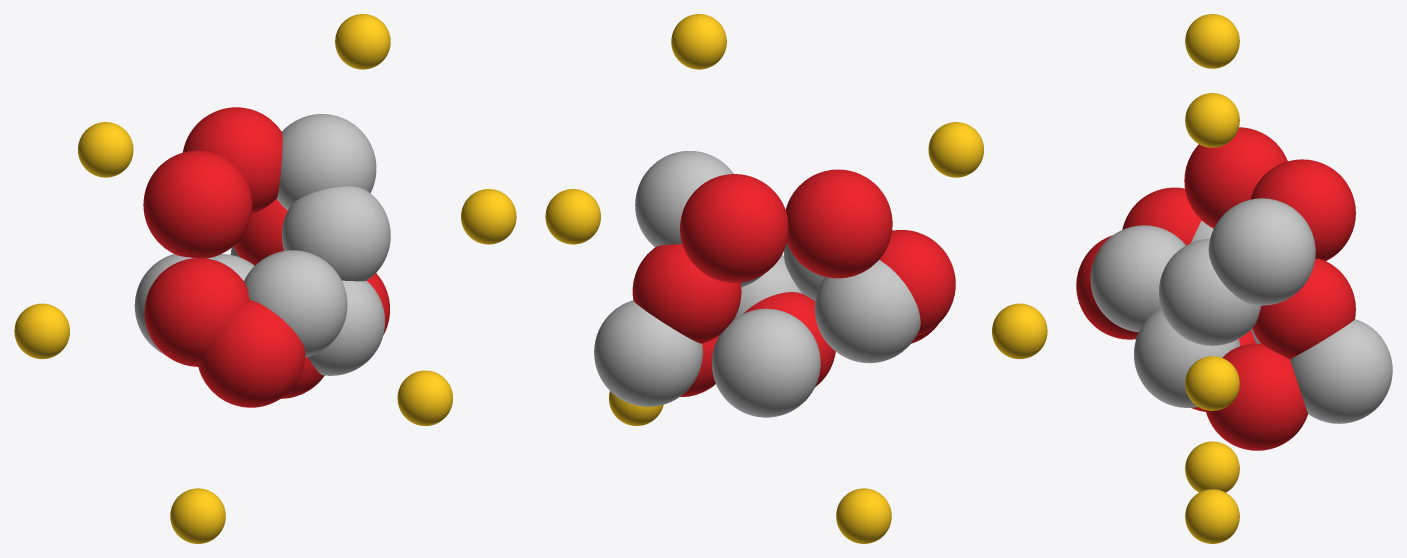
3 renders of one model, left to right at view 1: azimuth 30°, elevation 25°; view 2: azimuth 150°, elevation 25°; view 3: azimuth 270°, elevation 25°, orthographic.
Visible parts, largest first — view 1: mesh_id108, mesh_id125, mesh_id119, mesh_id139, mesh_id146, mesh_id145, mesh_id120, mesh_id153, mesh_id172, mesh_id82, mesh_id197, mesh_id196 (+5 smaller); view 2: mesh_id120, mesh_id160, mesh_id108, mesh_id166, mesh_id159, mesh_id109, mesh_id145, mesh_id119, mesh_id82, mesh_id197, mesh_id172, mesh_id196 (+6 smaller); view 3: mesh_id145, mesh_id166, mesh_id127, mesh_id139, mesh_id146, mesh_id108, mesh_id109, mesh_id120, mesh_id153, mesh_id119, mesh_id172, mesh_id196 (+4 smaller).
Boxes of the visible parts, bbox=[...] form: mesh_id108: bbox=[143, 150, 252, 258]; mesh_id125: bbox=[198, 300, 305, 407]; mesh_id119: bbox=[144, 258, 249, 366]; mesh_id139: bbox=[282, 186, 390, 281]; mesh_id146: bbox=[244, 250, 347, 357]; mesh_id145: bbox=[277, 114, 376, 210]; mesh_id120: bbox=[182, 107, 282, 213]; mesh_id153: bbox=[308, 280, 384, 375]; mesh_id172: bbox=[461, 189, 516, 244]; mesh_id82: bbox=[14, 303, 69, 359]; mesh_id197: bbox=[170, 488, 225, 543]; mesh_id196: bbox=[78, 122, 133, 177]; mesh_id120: bbox=[680, 174, 788, 282]; mesh_id160: bbox=[712, 308, 820, 417]; mesh_id108: bbox=[785, 169, 892, 278]; mesh_id166: bbox=[594, 300, 702, 406]; mesh_id159: bbox=[815, 260, 920, 363]; mesh_id109: bbox=[632, 244, 741, 343]; mesh_id145: bbox=[635, 151, 733, 247]; mesh_id119: bbox=[879, 230, 955, 336]; mesh_id82: bbox=[992, 303, 1047, 359]; mesh_id197: bbox=[836, 488, 891, 543]; mesh_id172: bbox=[545, 189, 600, 244]; mesh_id196: bbox=[928, 122, 983, 177]; mesh_id145: bbox=[1208, 198, 1315, 305]; mesh_id166: bbox=[1290, 319, 1392, 423]; mesh_id127: bbox=[1205, 343, 1307, 450]; mesh_id139: bbox=[1159, 238, 1260, 345]; mesh_id146: bbox=[1090, 225, 1185, 332]; mesh_id108: bbox=[1184, 127, 1287, 228]; mesh_id109: bbox=[1252, 258, 1355, 358]; mesh_id120: bbox=[1250, 159, 1355, 260]; mesh_id153: bbox=[1134, 308, 1240, 407]; mesh_id119: bbox=[1122, 187, 1201, 245]; mesh_id172: bbox=[1185, 356, 1239, 410]; mesh_id196: bbox=[1185, 14, 1239, 68].
Bounding box in the file's own units: 0.1744 × 0.1632 × 0.0981.
Materials: 3 (3 with a texture image).
